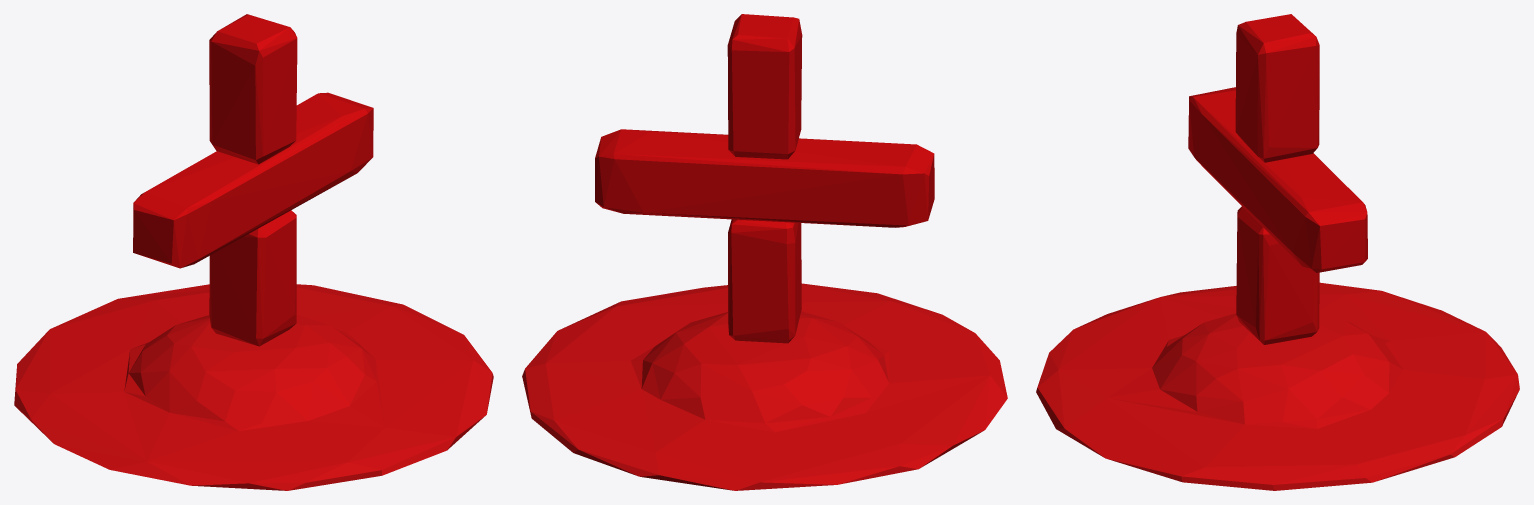
File: hillHuinya.fbx
3 renders of one model, left to right at view 1: azimuth 30°, elevation 25°; view 2: azimuth 150°, elevation 25°; view 3: azimuth 270°, elevation 25°, orthographic.
Visible parts, largest first — view 1: Куб; view 2: Куб; view 3: Куб.
Boxes of the visible parts, left/top/right/bottom form: Куб: left=14, top=14, right=493, bottom=490; Куб: left=522, top=14, right=1007, bottom=490; Куб: left=1036, top=14, right=1519, bottom=490.
Size of the model in its own units: 794 by 670 by 795.
